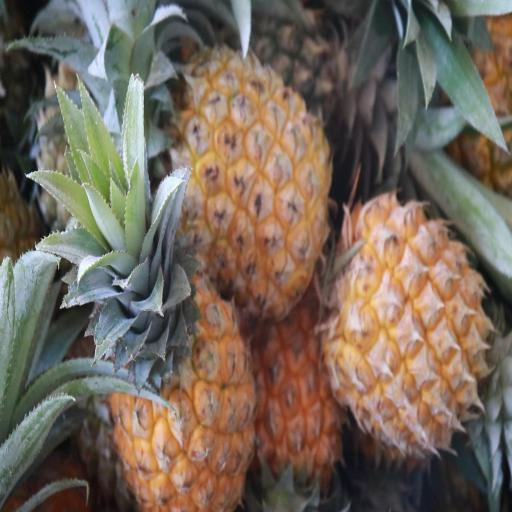Pineapple - v8 v1: (168, 36, 330, 308), (112, 200, 253, 511), (332, 190, 494, 457), (252, 295, 347, 512)
